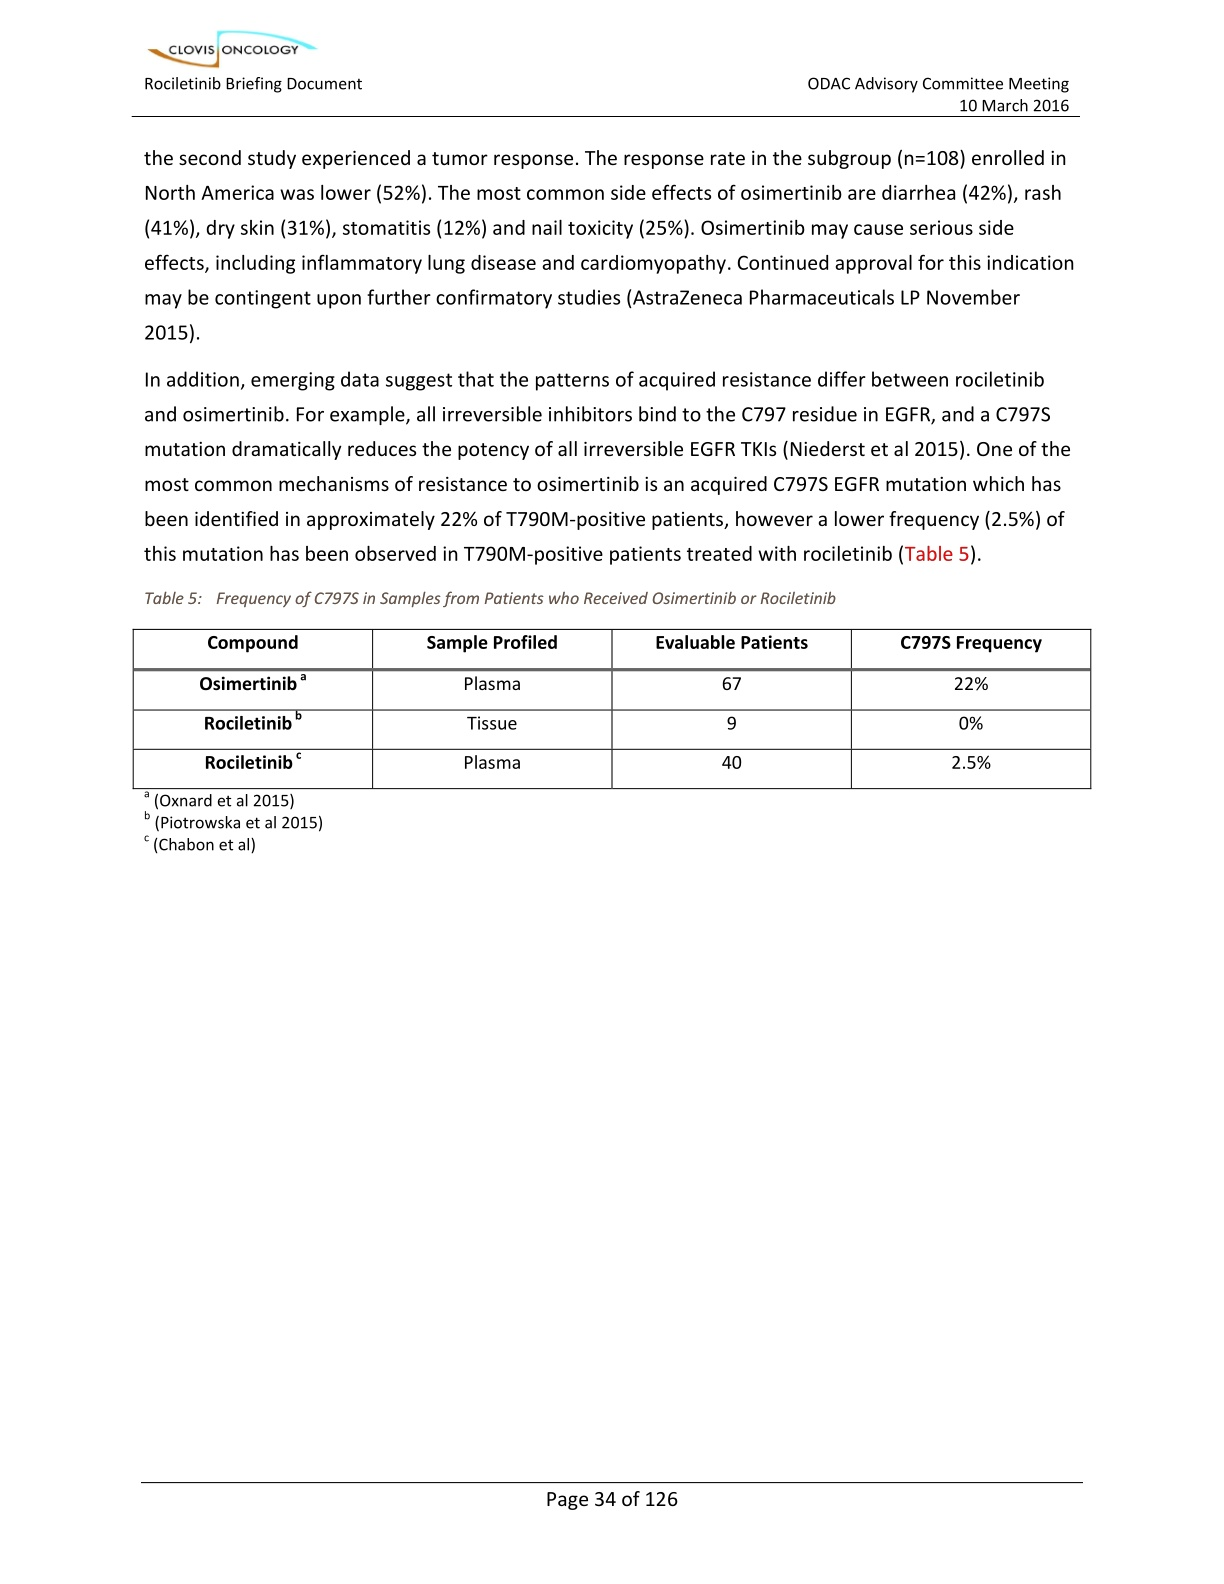full_lined: (132, 627, 1092, 791)
